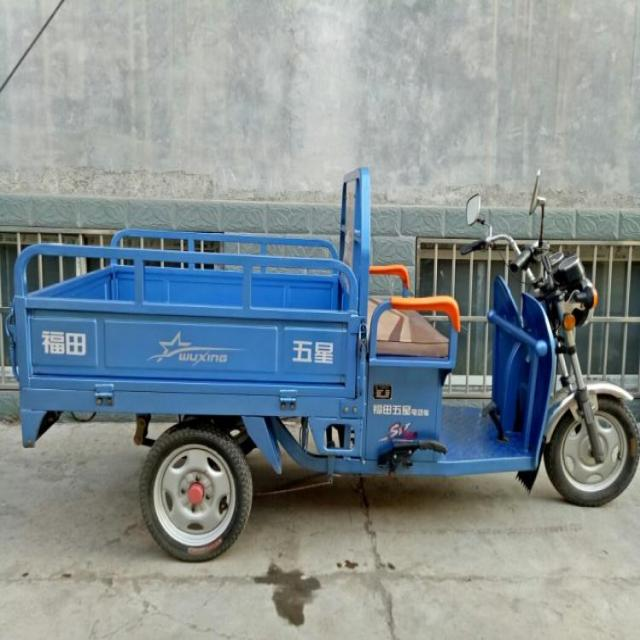tricycle: (7, 163, 639, 562)
